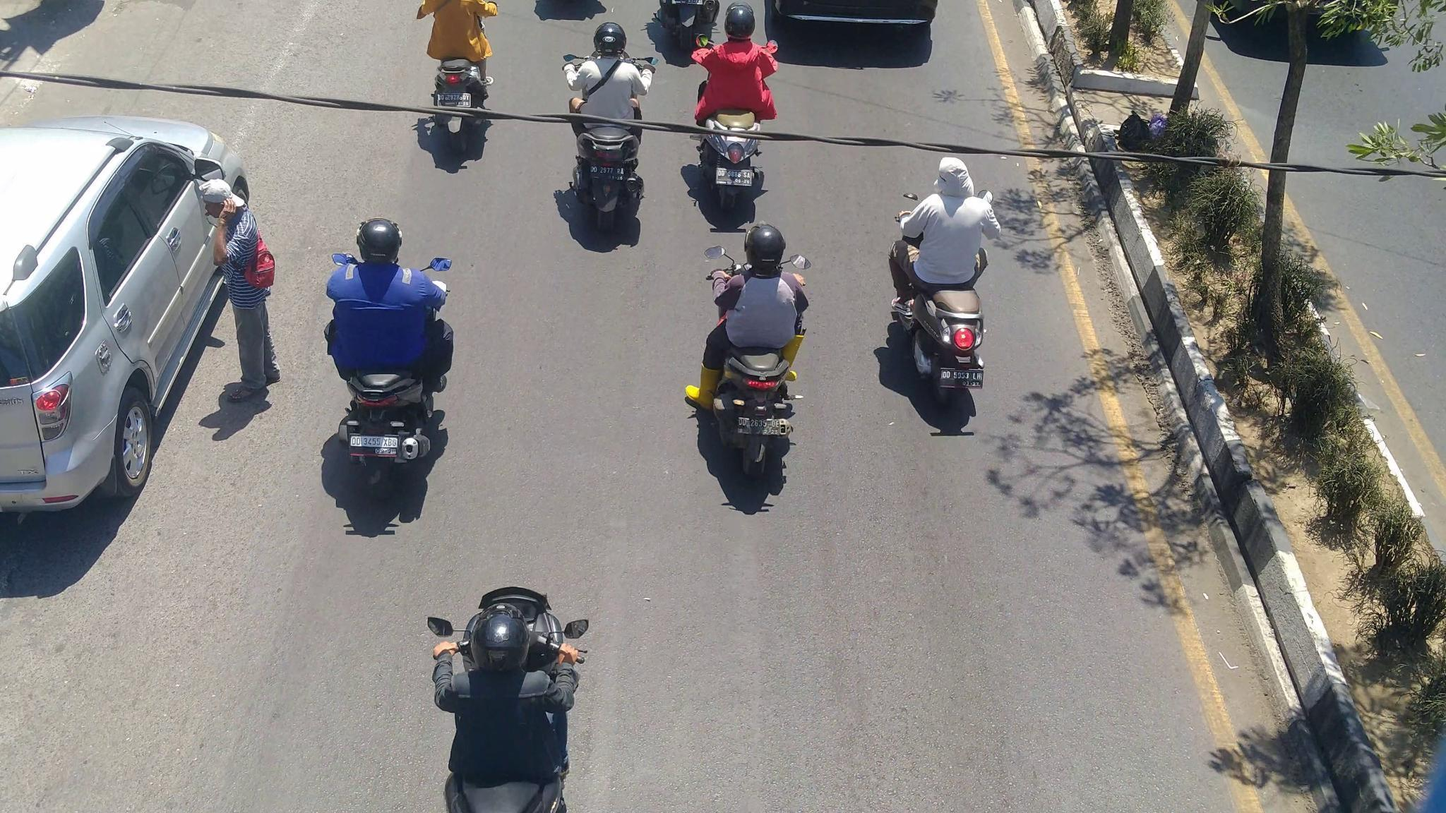Helmet: (462, 601, 540, 678), (349, 214, 409, 269), (740, 220, 789, 276), (720, 2, 761, 42), (592, 18, 631, 59)
bike: (329, 247, 452, 489), (698, 242, 813, 477), (894, 180, 996, 396), (560, 50, 660, 235), (689, 33, 779, 212), (427, 45, 494, 149)
no-helmet: (933, 153, 977, 202)
number-plate: (345, 429, 403, 455), (730, 415, 784, 438), (937, 366, 985, 391), (587, 163, 626, 186), (714, 166, 754, 187), (433, 93, 476, 111)
rider: (429, 600, 582, 787), (687, 218, 812, 413), (324, 216, 454, 395), (891, 155, 1002, 317), (566, 18, 655, 154), (693, 4, 779, 129), (417, 0, 498, 88)
